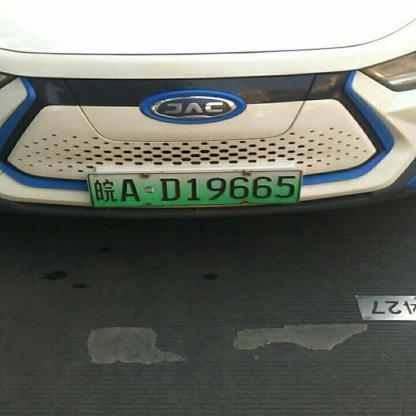lp: (88, 170, 301, 204)
